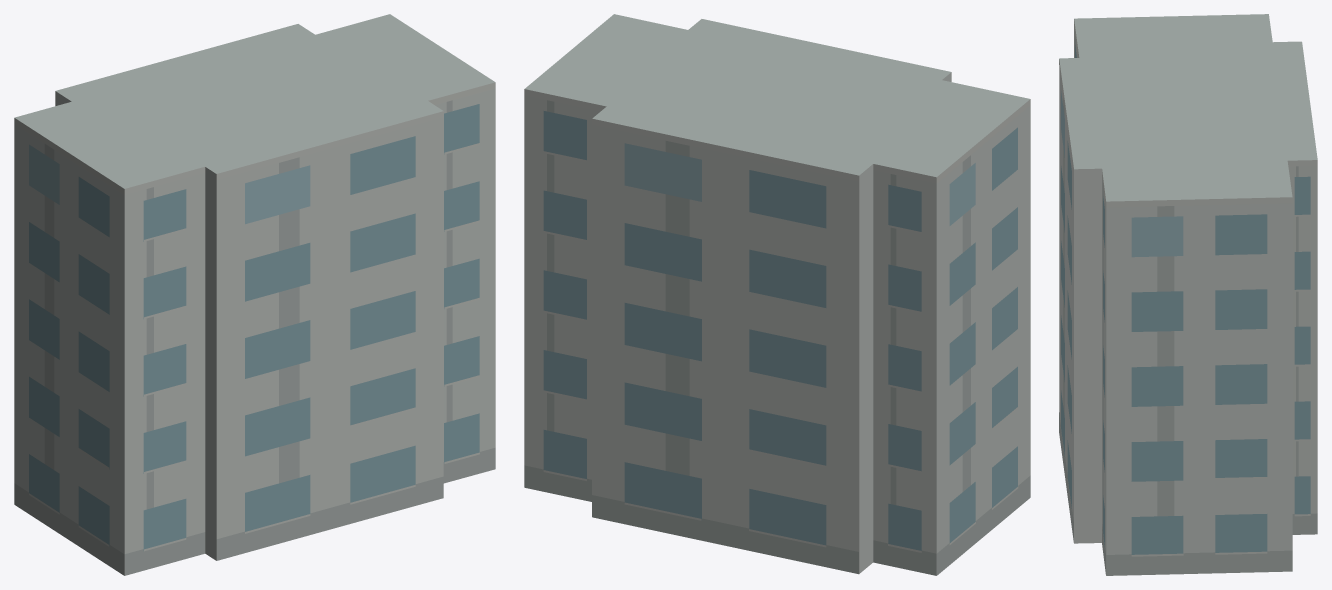
File: survey-upis-32813681.glb
3 views of the same model, side by side, from view 1: azimuth 30°, elevation 25°; view 2: azimuth 150°, elevation 25°; view 3: azimuth 270°, elevation 25° (orthographic). The views are drawn at different scales.
Visible parts, largest first — view 1: survey-upis-32813681.tmp; view 2: survey-upis-32813681.tmp; view 3: survey-upis-32813681.tmp.
Part boxes in pixels (x1,y1,x2,y2): survey-upis-32813681.tmp: (14,14,495,575); survey-upis-32813681.tmp: (524,14,1030,575); survey-upis-32813681.tmp: (1059,14,1317,575).
Bounding box in the file's own units: 16.4 × 15.25 × 9.56.
